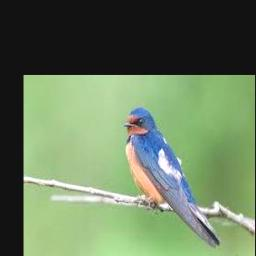Swallow: (123, 109, 221, 247)
